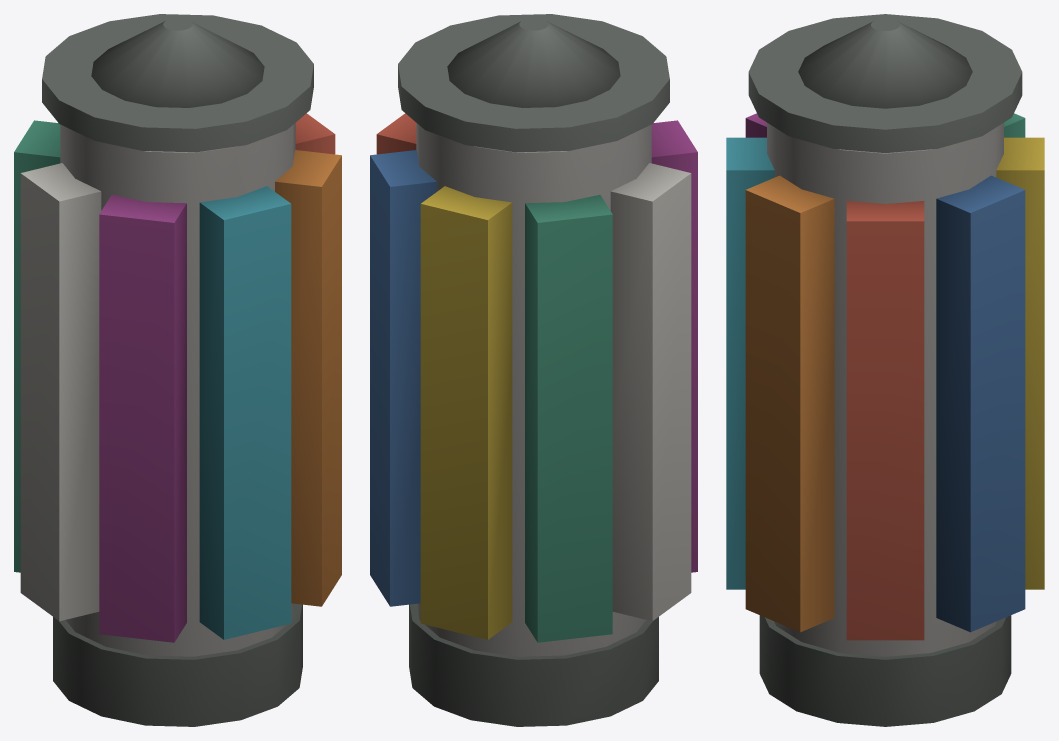
Rendered from litfass.glb.
3 renders of one model, left to right at view 1: azimuth 30°, elevation 25°; view 2: azimuth 150°, elevation 25°; view 3: azimuth 270°, elevation 25°, orthographic.
Visible parts, largest first — view 1: lack; view 2: lack; view 3: lack.
Boxes of the visible parts, left/top/right/bottom form: lack: left=14, top=14, right=341, bottom=726; lack: left=370, top=14, right=697, bottom=726; lack: left=726, top=14, right=1044, bottom=726.
Bounding box in the file's own units: 1.72 × 3.87 × 1.72.
